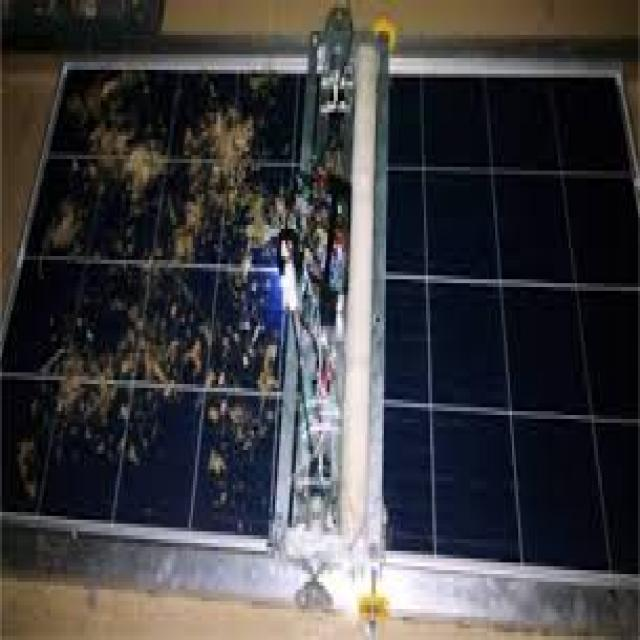faulty: (18, 65, 296, 551)
no faulty: (392, 66, 640, 570)
